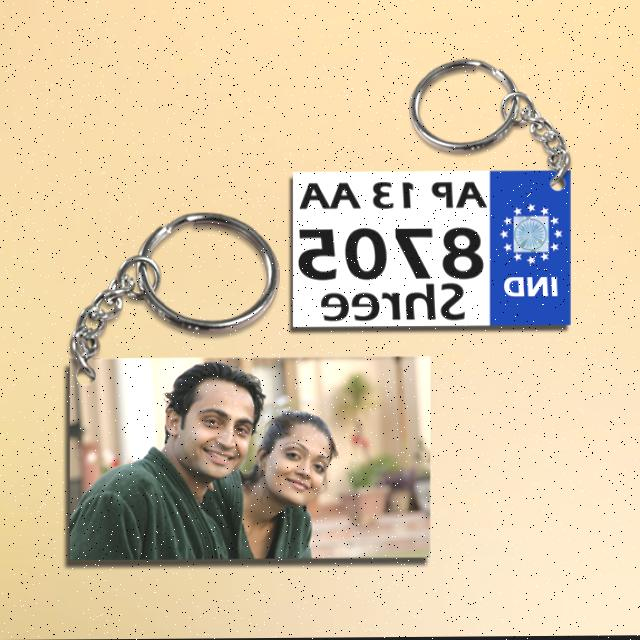plate: (289, 169, 572, 333)
